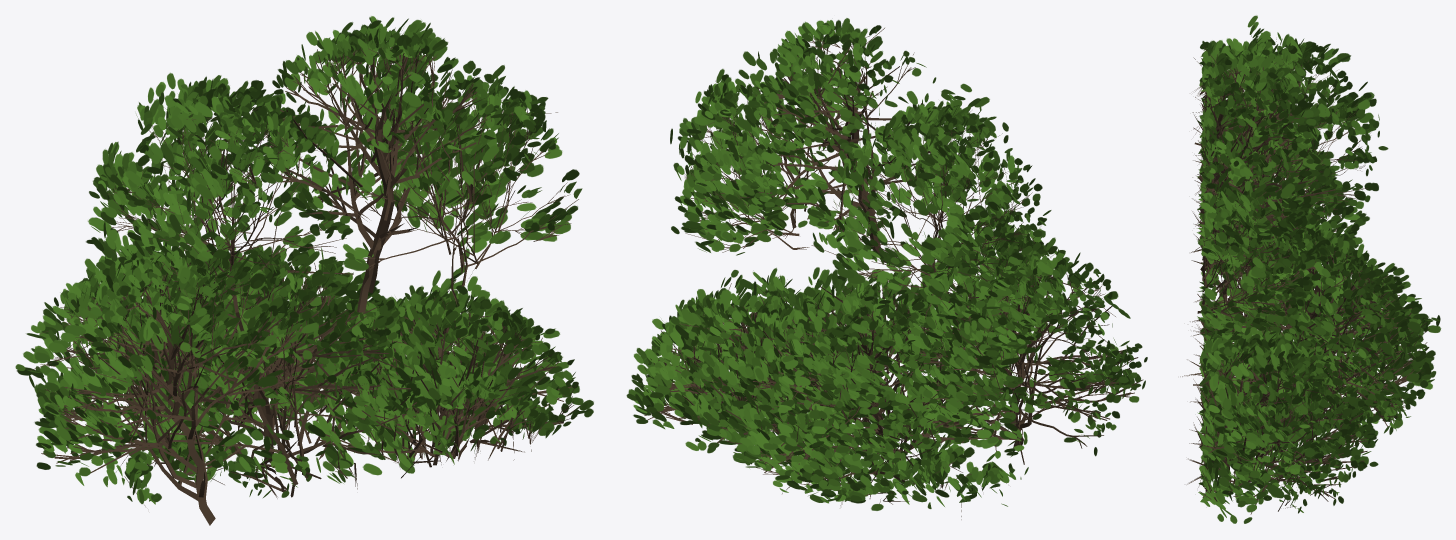
The picture shows the model from 3 angles, left to right: view 1: azimuth 30°, elevation 25°; view 2: azimuth 150°, elevation 25°; view 3: azimuth 270°, elevation 25°; orthographic projection. The views are drawn at different scales.
Visible parts, largest first — view 1: oak 01.001_trunk_Mat.001_0.194; view 2: oak 01.001_trunk_Mat.001_0.194; view 3: oak 01.001_trunk_Mat.001_0.194.
Part boxes in pixels (x1=…): oak 01.001_trunk_Mat.001_0.194: x1=15, y1=16, x2=593, y2=525; oak 01.001_trunk_Mat.001_0.194: x1=626, y1=18, x2=1147, y2=519; oak 01.001_trunk_Mat.001_0.194: x1=1180, y1=15, x2=1441, y2=523.
Bounding box in the file's own units: 5.65 × 4.54 × 2.66.
2 materials, 1 textured.
